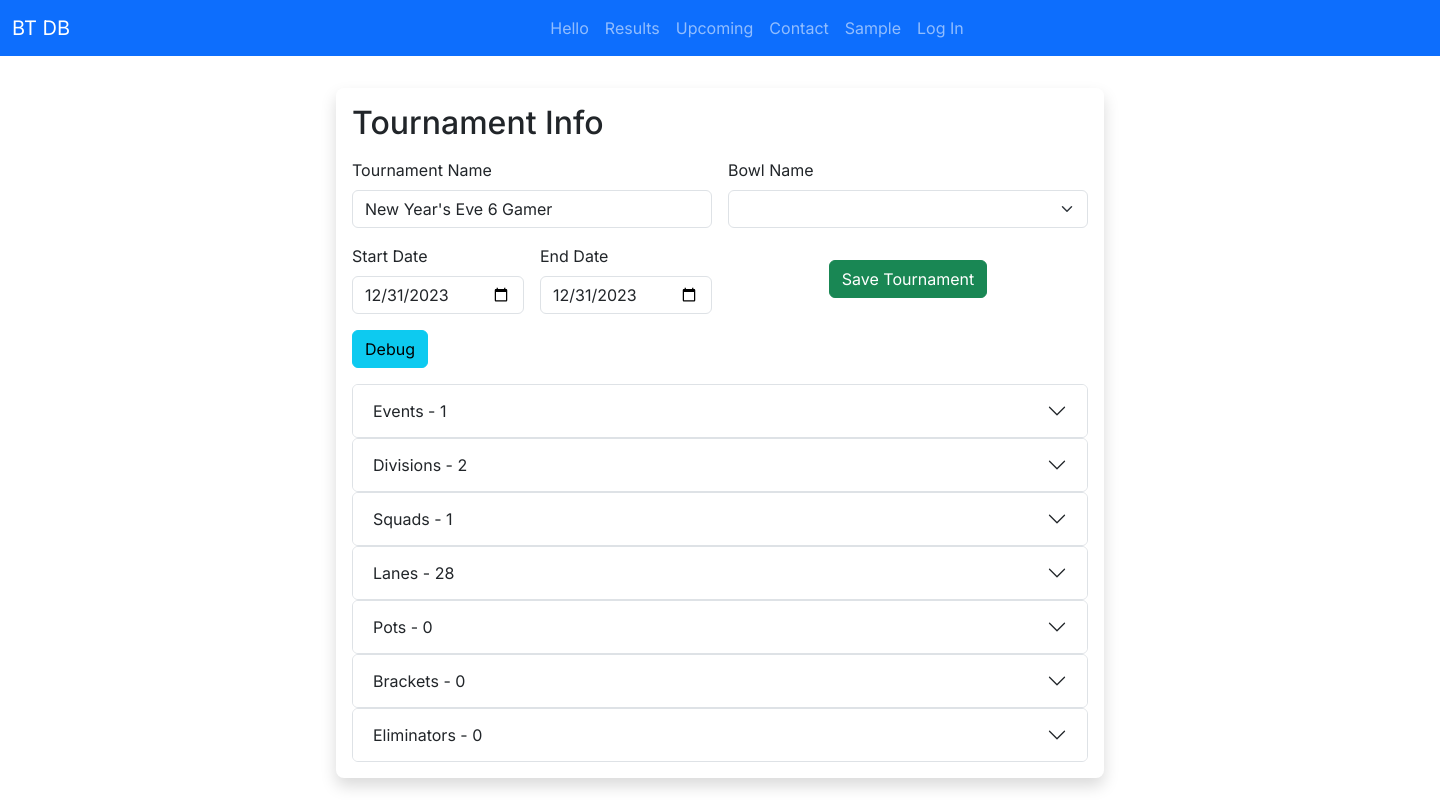
Test: TmntDataPage - Divs Component › changing the div name changes the divisions radio buttons › changing the 2nd div name changes the Pots divisions radio buttons
Click the button "Divisions - 2" at (415, 465), box [353, 439, 1087, 491]
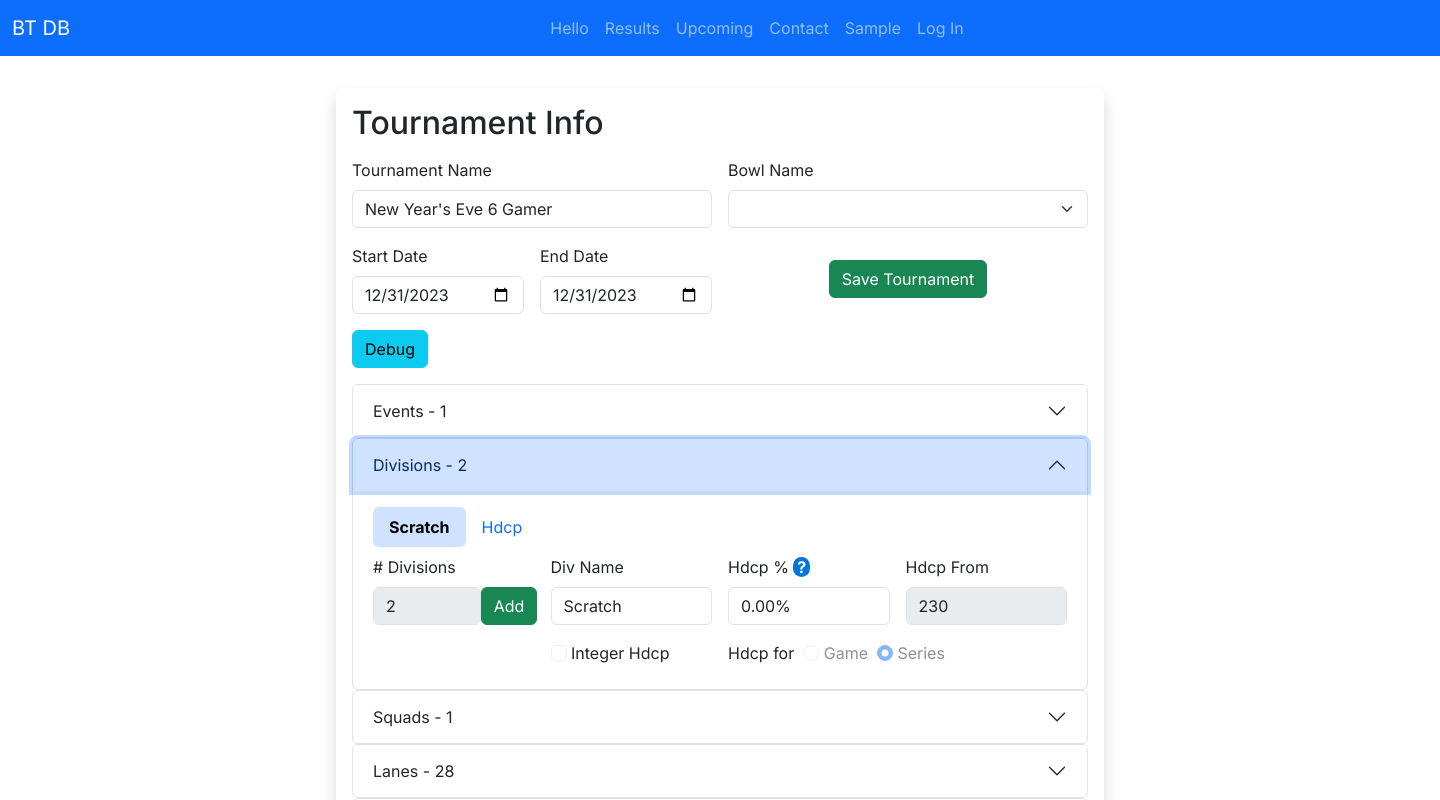
Result: the number of fields labelled "Div Name" is 2
Click the tab "Hdcp" at (502, 527), box [466, 507, 538, 547]
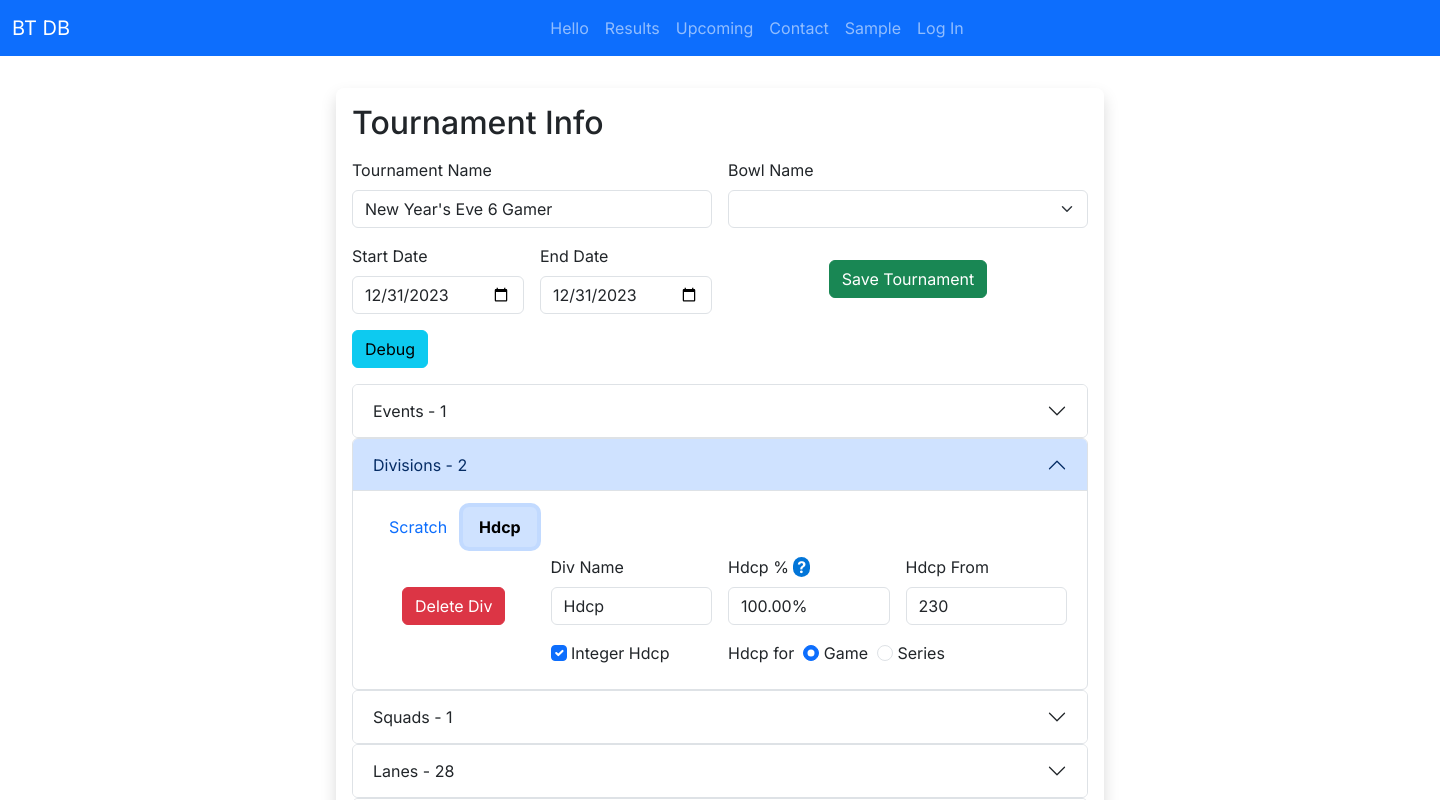
Clear the field labelled "Div Name" at (631, 606), box [550, 587, 712, 625]
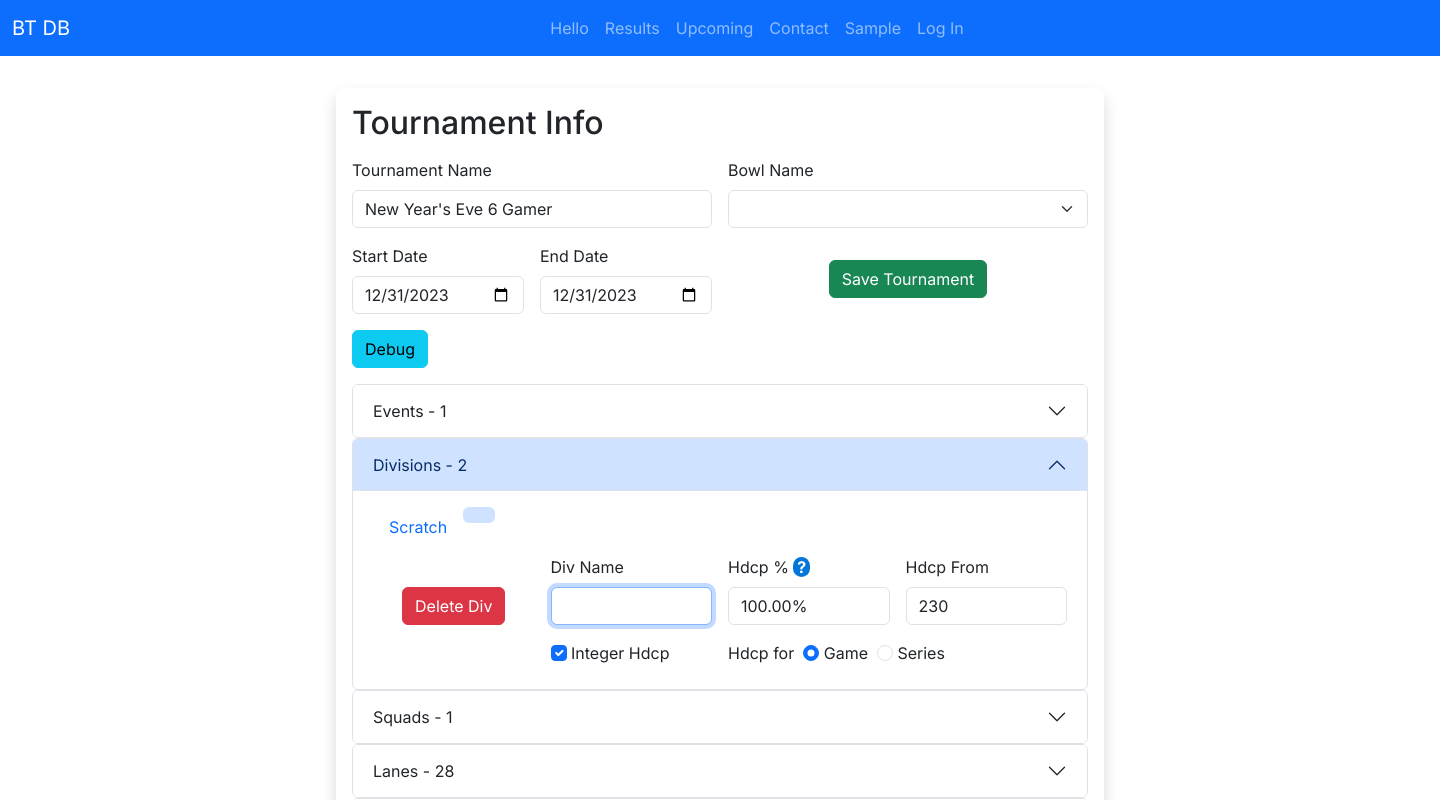
Type "Handicap" into the field labelled "Div Name" at (631, 606), box [550, 587, 712, 625]
(page scrolled)
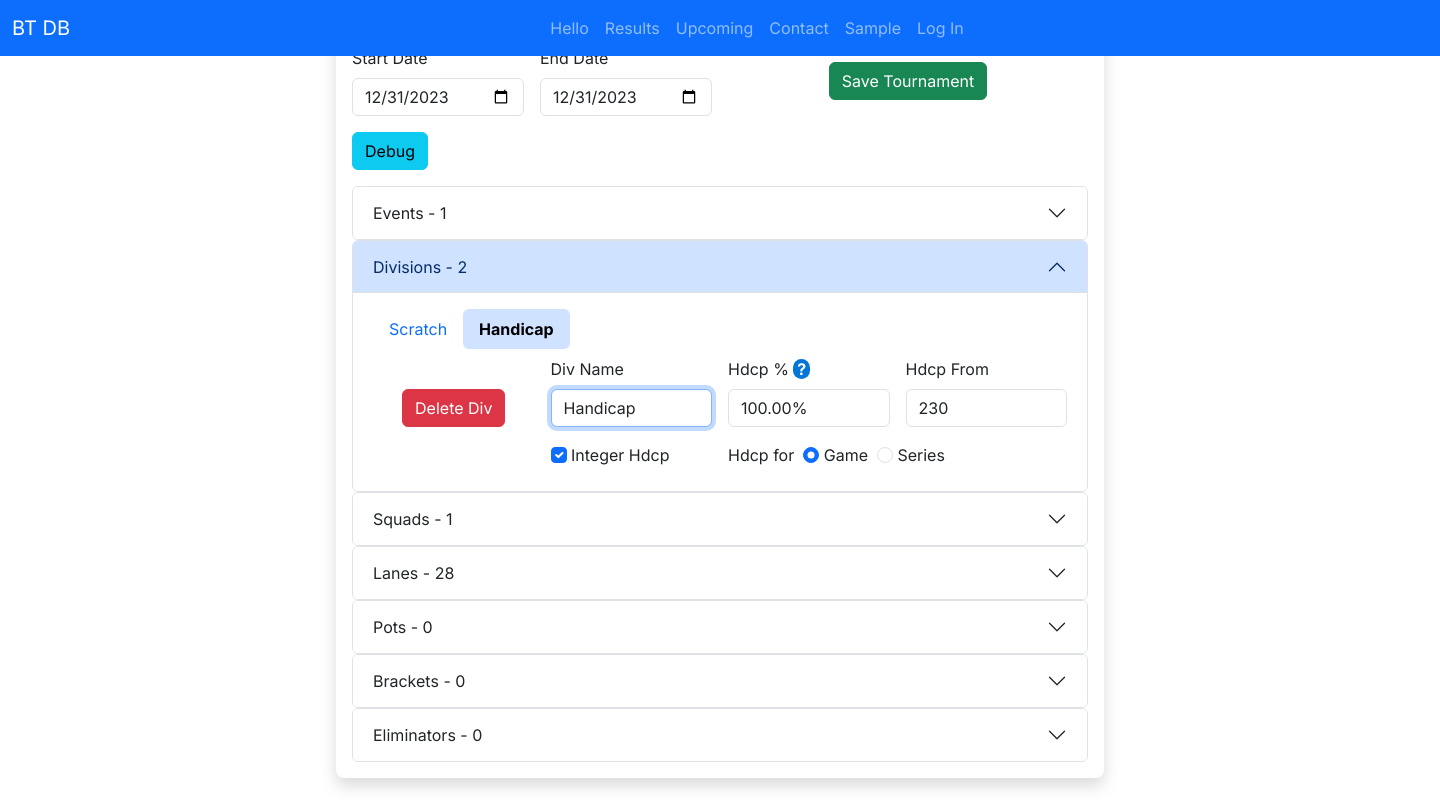
Click the button "Pots - 0" at (398, 627), box [353, 601, 1087, 653]
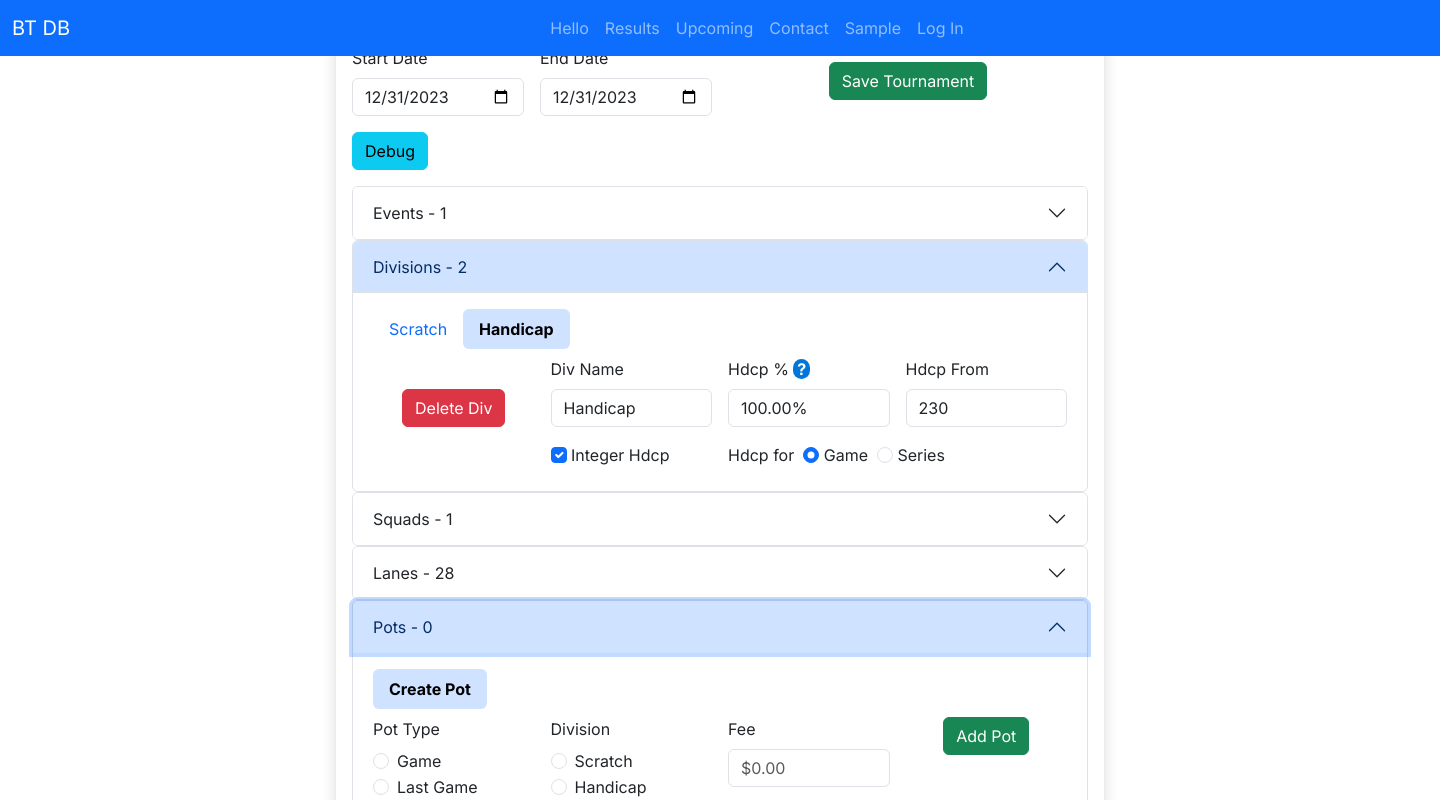
Result: the number of radio buttons labelled "Handicap" is 3
Result: the radio button labelled "Handicap" is not checked at [550, 779, 566, 795]
